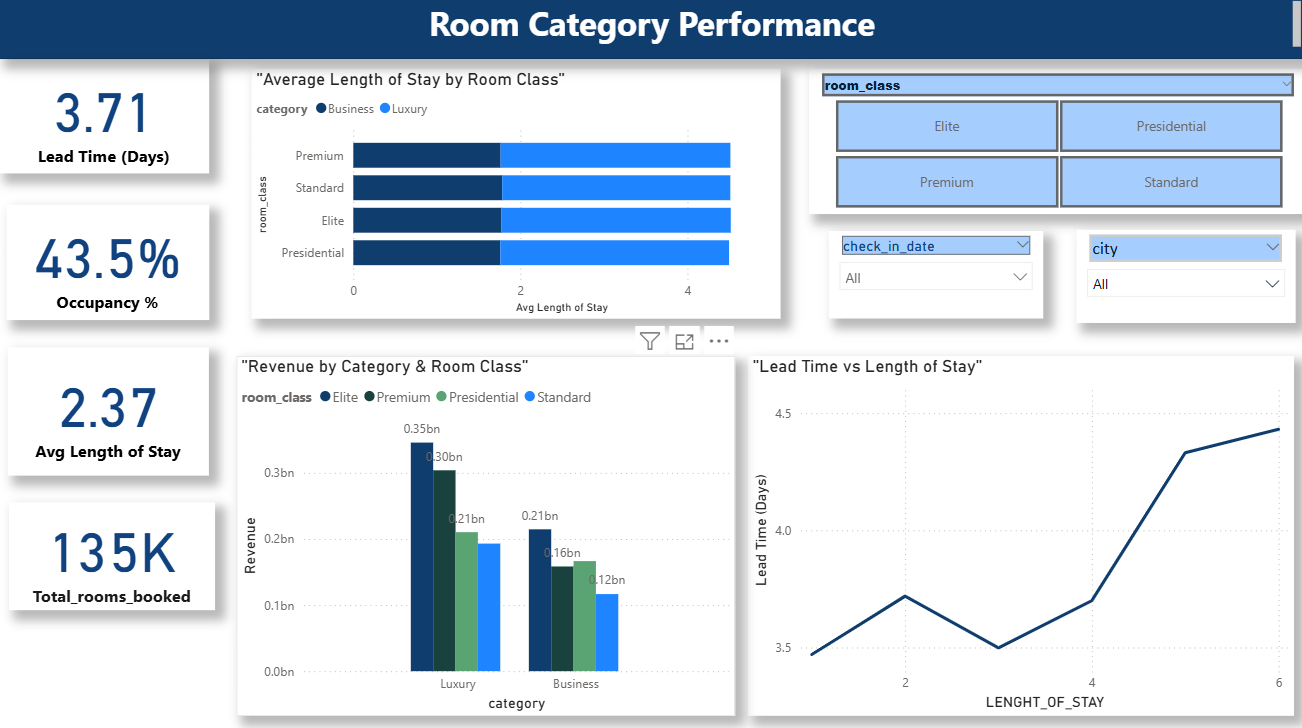

Layout of this report page (visuals, bound fields, positions):
{"tool":"powerbi","page":{"name":"Room Category Performance","canvas":[1280,720],"ordinal":2},"visuals":[{"type":"shape","box":[0,0,1280.3,61.9],"z":0},{"type":"card","title":"Lead Time (Days)","fields":{"Values":["Measure Table (2).B_Lead Time"]},"box":[0,62.7,205.3,111.2],"z":1000},{"type":"card","fields":{"Values":["Measure Table (2).Occupancy_Rate"]},"box":[7.1,203.8,198.1,112.6],"z":2000},{"type":"card","fields":{"Values":["Measure Table (2).Avg_LOS"]},"box":[8.6,343.5,196.7,125.4],"z":3000},{"type":"barChart","title":"\"Average Length of Stay by Room Class\"","fields":{"Category":["rooms.room_class"],"Y":["Measure Table (2).Avg_LOS"],"Series":["hotels.category"]},"box":[246.6,71.3,517.4,245.2],"z":4000},{"type":"lineChart","title":"\"Lead Time vs Length of Stay\"","fields":{"Y":["Measure Table (2).B_Lead Time"],"Category":["booking.LENGHT_OF_STAY"]},"box":[732.7,352.1,534.5,352.1],"z":5000},{"type":"clusteredColumnChart","title":"\"Revenue by Category & Room Class\"","fields":{"Category":["hotels.category"],"Y":["Measure Table (2).Revenue"],"Series":["rooms.room_class"]},"box":[232.3,352.1,487.5,352.1],"z":6000},{"type":"slicer","fields":{"Values":["rooms.room_class"]},"box":[792.7,71.4,487.3,142.8],"z":7000},{"type":"slicer","fields":{"Values":["hotels.city"]},"box":[1053.7,228.1,214.2,91.6],"z":8000},{"type":"textbox","box":[0,0,1278.8,62],"z":9000},{"type":"slicer","fields":{"Values":["occupancy.check_in_date"]},"box":[811.6,229.7,209.5,85.4],"z":10000},{"type":"card","fields":{"Values":["Measure Table (2).Total_rooms_booked"]},"box":[9.3,495.1,201.7,105.5],"z":11000}]}

Visuals, with their boxes in screenshot pixels (x1, y1, x2, y2), scaled from the page's 1280x720 canvas onto the 1302x728 screenshot:
shape: [x1=0, y1=0, x2=1301, y2=63]
"Lead Time (Days)" card: [x1=0, y1=63, x2=209, y2=176]
card - Measure Table (2).Occupancy_Rate: [x1=7, y1=206, x2=209, y2=320]
card - Measure Table (2).Avg_LOS: [x1=9, y1=347, x2=209, y2=474]
""Average Length of Stay by Room Class"" barChart: [x1=251, y1=72, x2=777, y2=320]
""Lead Time vs Length of Stay"" lineChart: [x1=745, y1=356, x2=1289, y2=712]
""Revenue by Category & Room Class"" clusteredColumnChart: [x1=236, y1=356, x2=732, y2=712]
slicer - rooms.room_class: [x1=806, y1=72, x2=1301, y2=217]
slicer - hotels.city: [x1=1072, y1=231, x2=1290, y2=323]
textbox: [x1=0, y1=0, x2=1301, y2=63]
slicer - occupancy.check_in_date: [x1=826, y1=232, x2=1039, y2=319]
card - Measure Table (2).Total_rooms_booked: [x1=9, y1=501, x2=215, y2=607]
